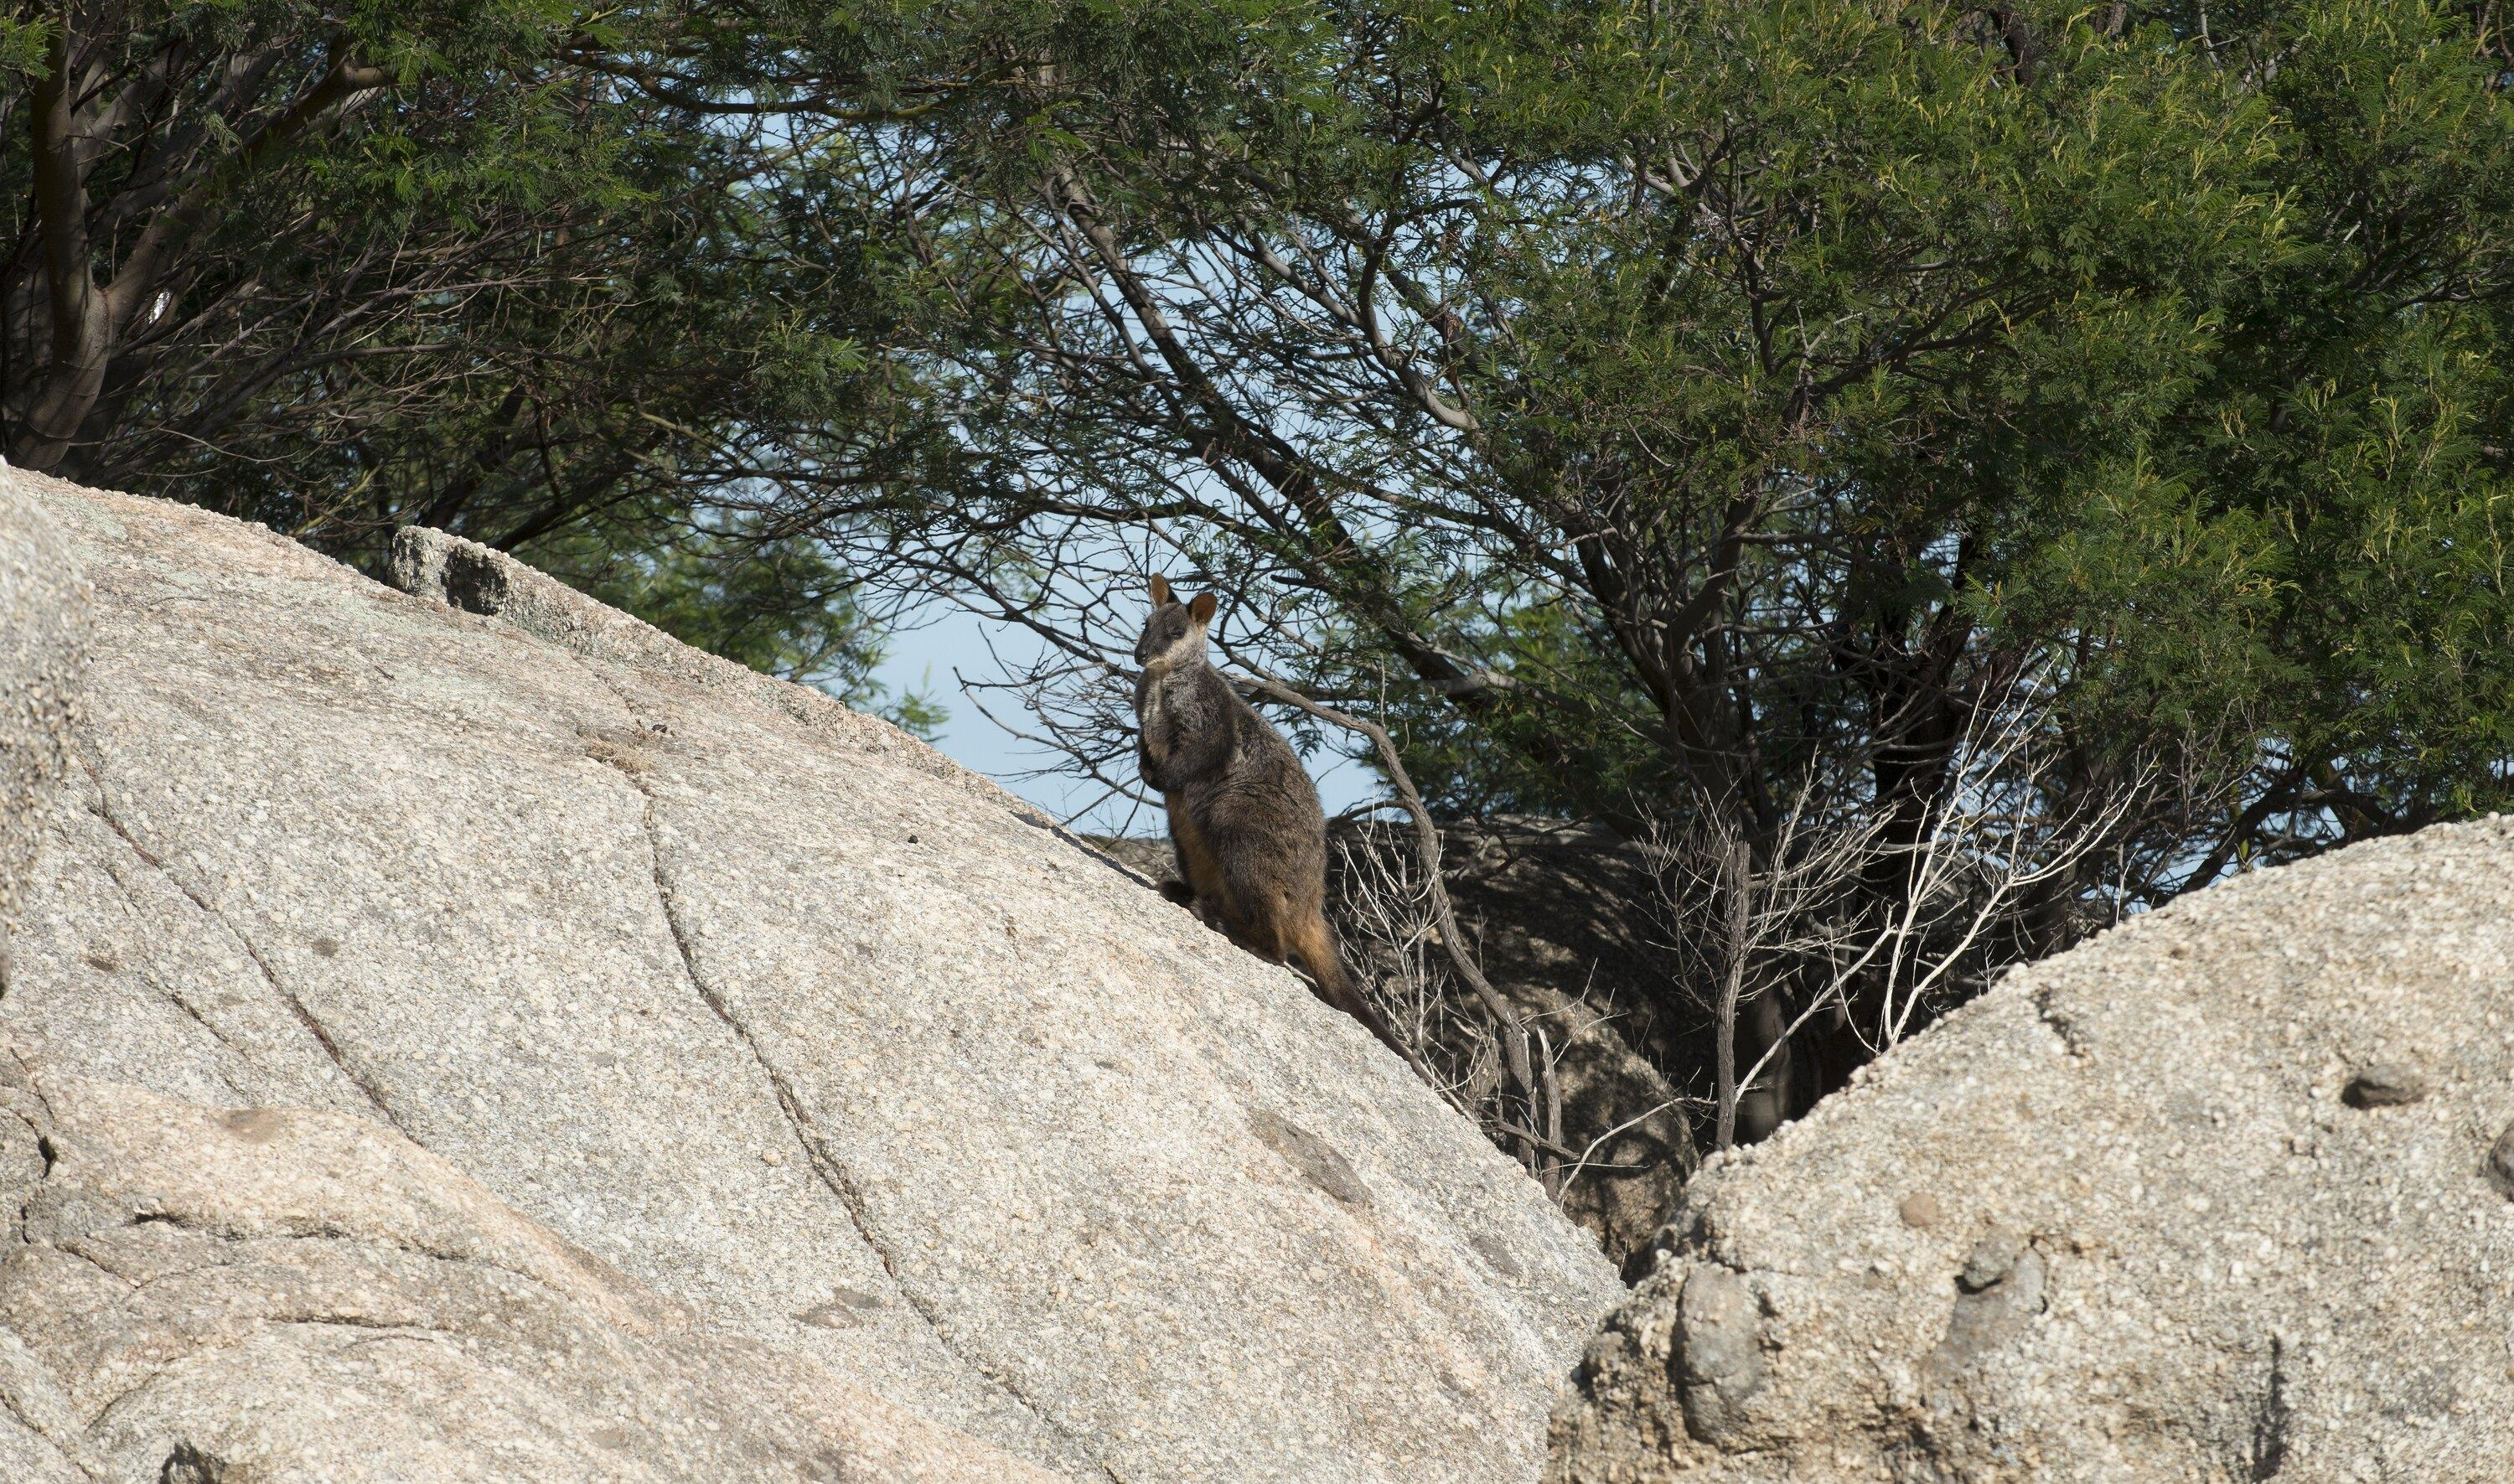Brush-tailed rock-wallaby: (1115, 571, 1472, 1117)
